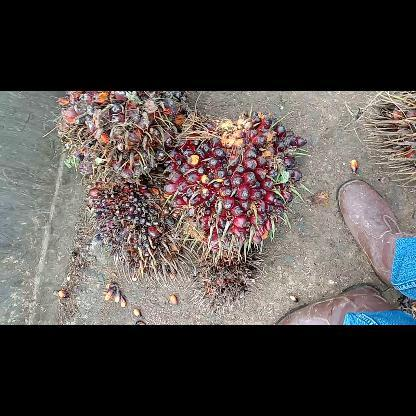TBS abnormal: (81, 166, 203, 288), (186, 237, 264, 311)
TBS masak: (160, 108, 308, 266), (53, 92, 193, 188)
